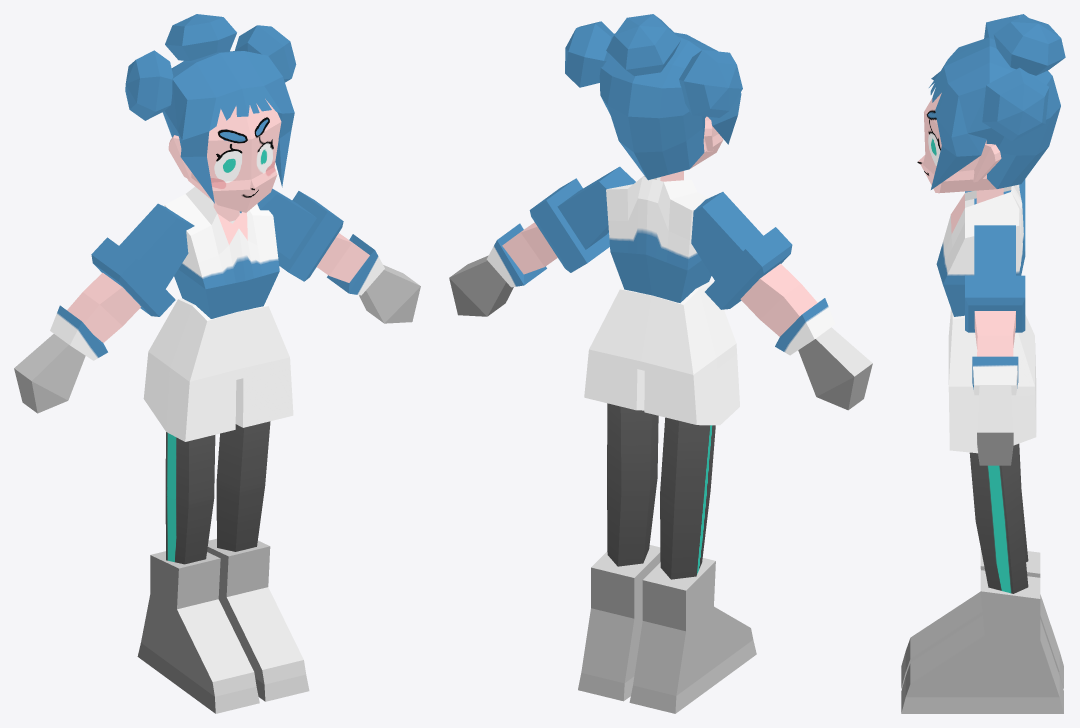
File: godette_low_poly2.glb
3 views of the same model, side by side, from view 1: azimuth 30°, elevation 25°; view 2: azimuth 150°, elevation 25°; view 3: azimuth 270°, elevation 25° (orthographic). The views are drawn at different scales.
Parts seen in each view (by area): view 1: Cube, Cube.003, Cube.001, Plane, Cylinder, Cube.002, Cube.004, Sphere.001, Sphere; view 2: Cube, Cube.003, Cube.001, Cylinder, Plane, Cube.002, Cube.004, Sphere.001, Sphere; view 3: Cube, Plane, Cube.003, Cylinder, Cube.001, Cube.002, Sphere.001, Sphere, Cube.004, Plane.001, Cylinder.001.
Part boxes in pixels (box(x1,y1,x2,y2)): Cube: box(137, 538, 309, 713); Cube.003: box(50, 188, 384, 360); Cube.001: box(143, 298, 293, 441); Plane: box(162, 51, 294, 212); Cylinder: box(165, 421, 270, 564); Cube.002: box(164, 186, 279, 318); Cube.004: box(14, 265, 420, 413); Sphere.001: box(125, 25, 296, 120); Sphere: box(165, 14, 236, 60); Cube: box(578, 545, 756, 713); Cube.003: box(486, 166, 835, 355); Cube.001: box(584, 281, 739, 425); Cylinder: box(607, 403, 715, 579); Plane: box(599, 32, 741, 180); Cube.002: box(606, 176, 711, 302); Cube.004: box(449, 255, 872, 410); Sphere.001: box(565, 21, 742, 117); Sphere: box(606, 14, 681, 76); Cube: box(901, 548, 1063, 713); Plane: box(917, 37, 1060, 193); Cube.003: box(965, 179, 1025, 395); Cylinder: box(969, 443, 1028, 593); Cube.001: box(948, 309, 1036, 453); Cube.002: box(936, 184, 1024, 316); Sphere.001: box(982, 14, 1049, 141); Sphere: box(993, 16, 1065, 75); Cube.004: box(977, 386, 1013, 465); Plane.001: box(972, 144, 1001, 182); Cylinder.001: box(976, 188, 1003, 203).
Bounding box in the file's own units: 1.25 × 1.97 × 0.4392.
Materials: 1 (1 with a texture image).
